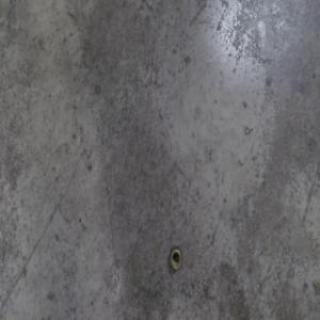Nuttrack_idkeyframe: (168, 243, 181, 270)
